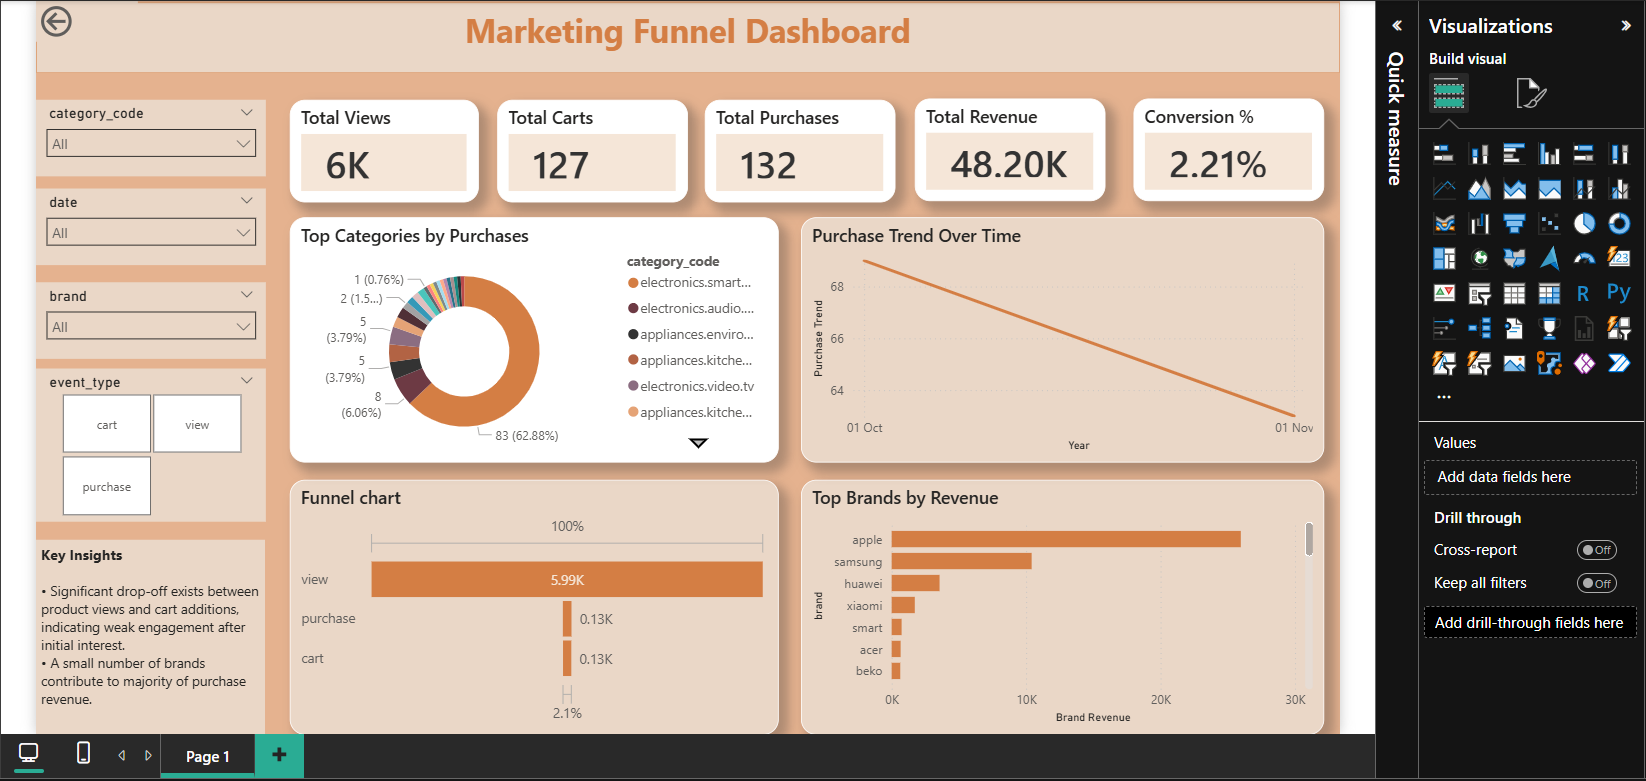

Layout of this report page (visuals, bound fields, positions):
{"tool":"powerbi","page":{"name":"Page 1","canvas":[1280,720],"ordinal":0},"visuals":[{"type":"cardVisual","title":"Total Views","fields":{"Data":["marketing_funnel_sample_csv.Total Views"]},"box":[248.8,96.8,185.6,100.9],"z":0},{"type":"cardVisual","title":"Total Revenue","fields":{"Data":["marketing_funnel_sample_csv.Total Revenue"]},"box":[862,95.5,186.9,100.9],"z":1000},{"type":"cardVisual","title":"Total Carts","fields":{"Data":["marketing_funnel_sample_csv.Total Carts"]},"box":[453.2,96.8,186.9,100.9],"z":2000},{"type":"cardVisual","title":"Conversion %","fields":{"Data":["marketing_funnel_sample_csv.Conversion Rate"]},"box":[1077.2,95.5,186.9,100.9],"z":3000},{"type":"cardVisual","title":"Total Purchases","fields":{"Data":["marketing_funnel_sample_csv.Total Purchases"]},"box":[656.3,96.8,186.9,100.9],"z":4000},{"type":"textbox","box":[0,1.2,1279.8,69.9],"z":5000},{"type":"funnel","title":"Funnel chart","fields":{"Category":["marketing_funnel_sample_csv.event_type"],"Y":["CountNonNull(marketing_funnel_sample_csv.event_type)"]},"box":[248.8,469.3,480.1,250.1],"z":6000},{"type":"donutChart","title":"Top Categories by Purchases","fields":{"Category":["marketing_funnel_sample_csv.category_code"],"Y":["marketing_funnel_sample_csv.Purchase Count"]},"box":[248.8,212.5,480.1,240.7],"z":7000},{"type":"clusteredBarChart","title":"Top Brands by Revenue","fields":{"Category":["marketing_funnel_sample_csv.brand"],"Y":["marketing_funnel_sample_csv.Brand Revenue"]},"box":[750.4,469.3,513.7,250.1],"z":8000},{"type":"lineChart","title":"Purchase Trend Over Time","fields":{"Y":["marketing_funnel_sample_csv.Purchase Trend"],"Category":["marketing_funnel_sample_csv.date.Variation.Date Hierarchy.Year","marketing_funnel_sample_csv.date.Variation.Date Hierarchy.Quarter","marketing_funnel_sample_csv.date.Variation.Date Hierarchy.Month","marketing_funnel_sample_csv.date.Variation.Date Hierarchy.Day"]},"box":[750.4,212.5,513.7,240.7],"z":9000},{"type":"slicer","fields":{"Values":["marketing_funnel_sample_csv.event_type"]},"box":[0,360.4,225.9,150.6],"z":10000},{"type":"actionButton","box":[0,0,100,40],"z":11000},{"type":"slicer","fields":{"Values":["marketing_funnel_sample_csv.date"]},"box":[0,184.2,225.9,75.3],"z":12000},{"type":"slicer","fields":{"Values":["marketing_funnel_sample_csv.category_code"]},"box":[0,96.8,225.9,75.3],"z":13000},{"type":"slicer","fields":{"Values":["marketing_funnel_sample_csv.brand"]},"box":[0,275.7,225.9,75.3],"z":14000},{"type":"textbox","box":[0,528.5,225,192],"z":15000}]}

Visuals, with their boxes in screenshot pixels (x1, y1, x2, y2):
"Total Views" cardVisual: [x1=325, y1=91, x2=516, y2=195]
"Total Revenue" cardVisual: [x1=957, y1=90, x2=1150, y2=194]
"Total Carts" cardVisual: [x1=536, y1=91, x2=728, y2=195]
"Conversion %" cardVisual: [x1=1179, y1=90, x2=1371, y2=194]
"Total Purchases" cardVisual: [x1=745, y1=91, x2=938, y2=195]
textbox: [x1=69, y1=0, x2=1388, y2=65]
"Funnel chart" funnel: [x1=325, y1=475, x2=820, y2=733]
"Top Categories by Purchases" donutChart: [x1=325, y1=210, x2=820, y2=459]
"Top Brands by Revenue" clusteredBarChart: [x1=842, y1=475, x2=1371, y2=733]
"Purchase Trend Over Time" lineChart: [x1=842, y1=210, x2=1371, y2=459]
slicer - marketing_funnel_sample_csv.event_type: [x1=69, y1=363, x2=301, y2=518]
actionButton: [x1=69, y1=0, x2=172, y2=33]
slicer - marketing_funnel_sample_csv.date: [x1=69, y1=181, x2=301, y2=259]
slicer - marketing_funnel_sample_csv.category_code: [x1=69, y1=91, x2=301, y2=169]
slicer - marketing_funnel_sample_csv.brand: [x1=69, y1=276, x2=301, y2=353]
textbox: [x1=69, y1=536, x2=300, y2=734]
